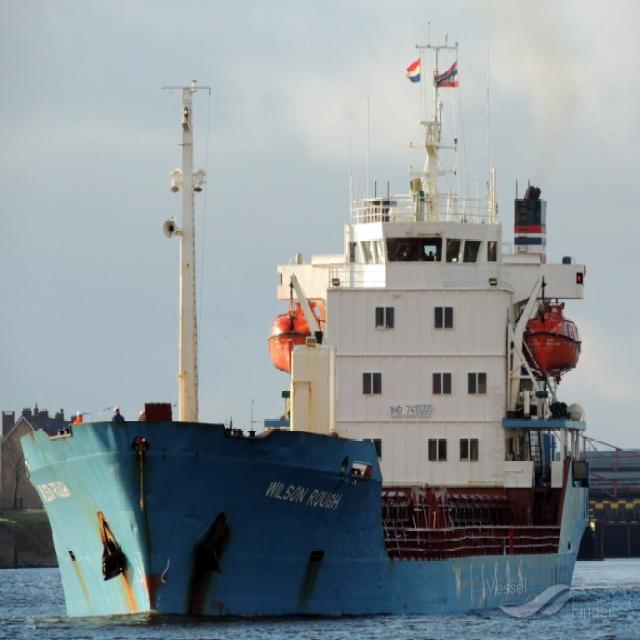OCR: (266, 470, 356, 518), (438, 558, 528, 606), (32, 478, 71, 506), (387, 401, 436, 417)
